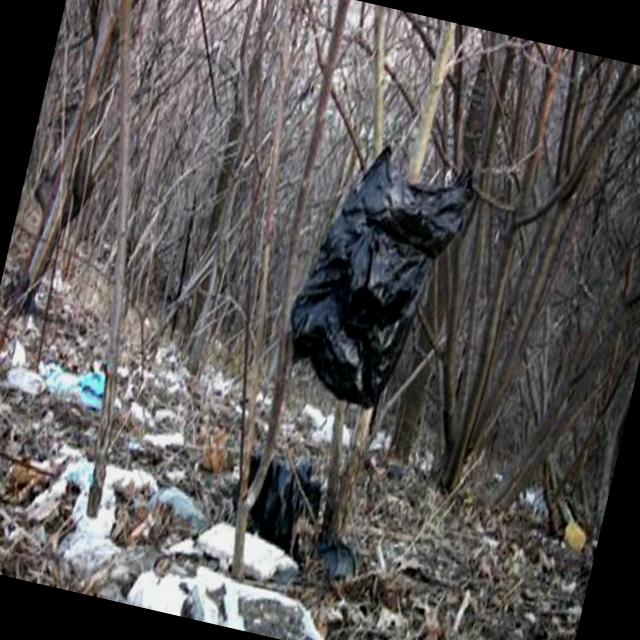garbage: (0, 42, 511, 640)
